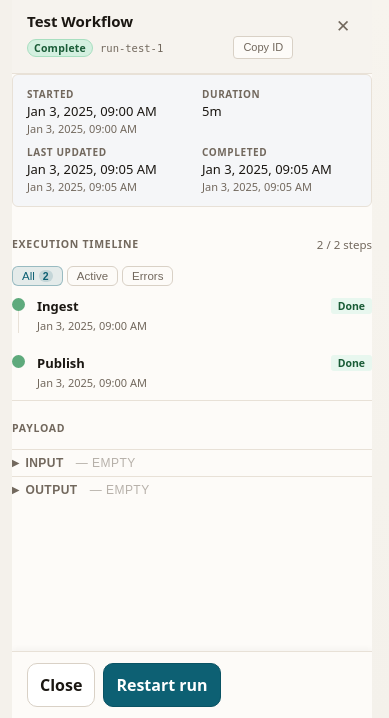
Test: Execution timeline — scalability controls › shows empty message when filter yields no results
The image size is (389, 718).
Note: Filter to Errors — no errored steps exist.
What coordinates should you click on to do the following:
click the button "Errors"
I would click on:
 (148, 276)
Its box is top-left (122, 266), bottom-right (173, 286).
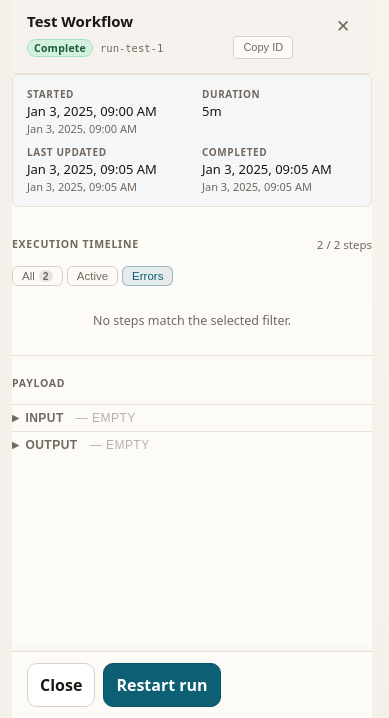
expect the text "No steps match the selected filter." is shown: met, box top-left (93, 312), bottom-right (291, 328)
